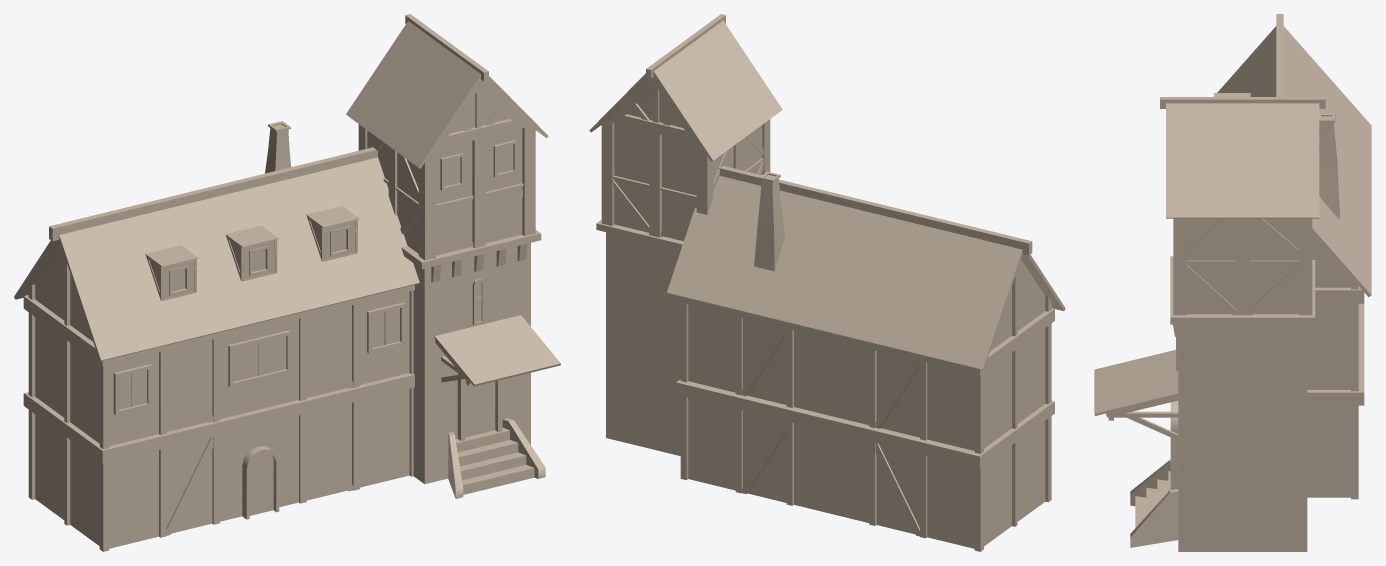
Rendered from m_house.glb.
3 renders of one model, left to right at view 1: azimuth 30°, elevation 25°; view 2: azimuth 150°, elevation 25°; view 3: azimuth 270°, elevation 25°, orthographic. The views are drawn at different scales.
Parts seen in each view (by area): view 1: House4; view 2: House4; view 3: House4.
Boxes of the visible parts, x1,y1,x2,y2 form: House4: (14, 14, 560, 551); House4: (589, 14, 1065, 551); House4: (1094, 14, 1371, 551).
Size of the model in its own units: 14.4 by 12.58 by 7.41.
